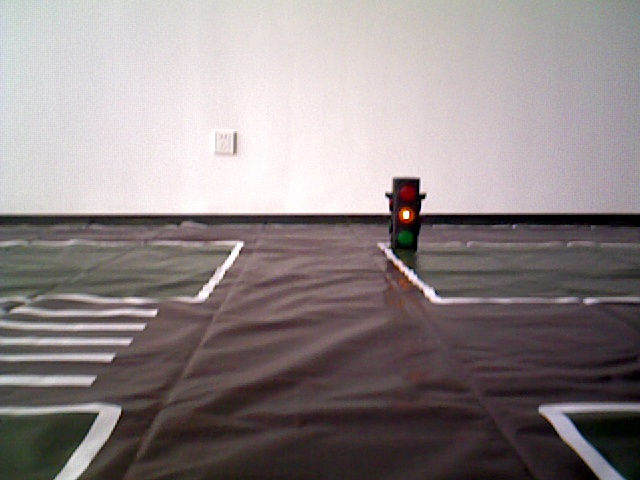yellow: (385, 172, 425, 251)
